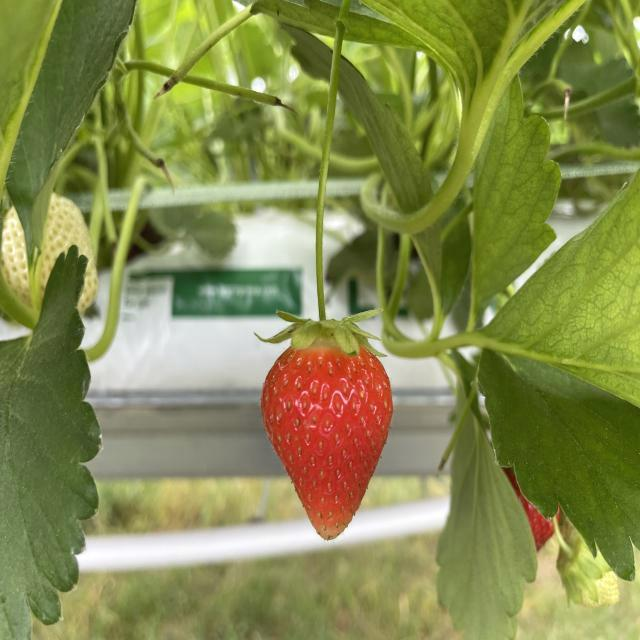stem: (258, 0, 376, 352)
strawberryR: (260, 347, 391, 535)
